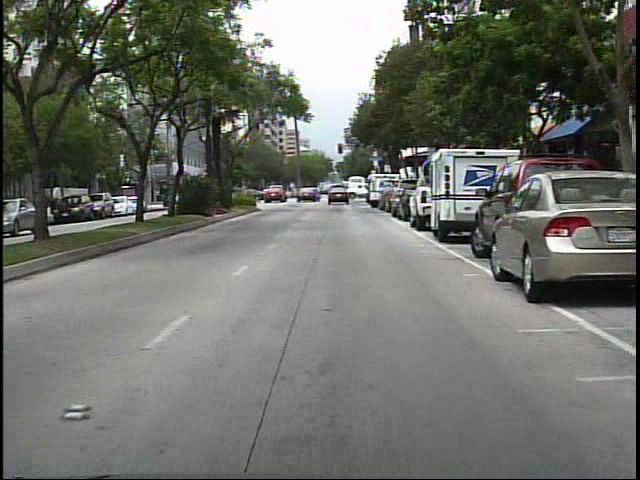person: (326, 183, 339, 203), (287, 183, 295, 202)
